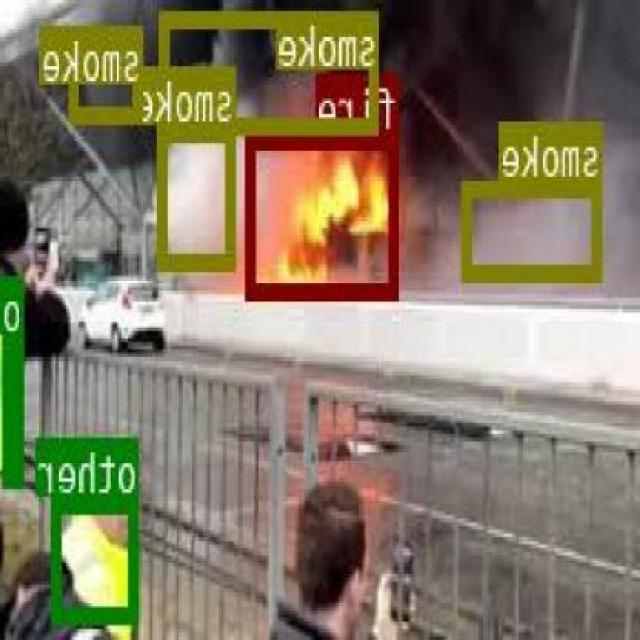Fire: (248, 130, 401, 298)
Smoke: (162, 11, 381, 131), (508, 6, 638, 114), (465, 180, 604, 276), (160, 121, 237, 266), (70, 24, 144, 121), (404, 181, 458, 284), (608, 140, 634, 312)
